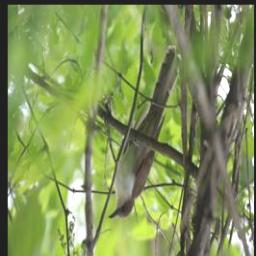Cuckoo: (107, 45, 181, 224)
